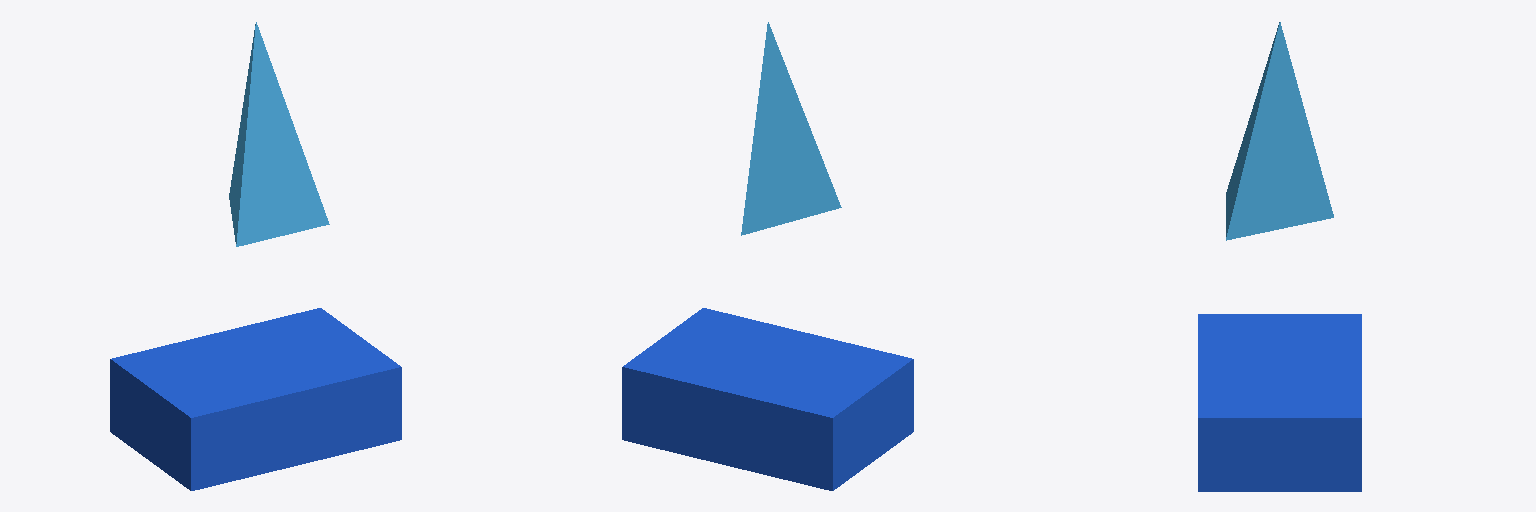
robot.urdf — urdftools_portable_demo:
<?xml version="1.0"?>
<robot name="urdftools_portable_demo">
  <link name="base_link">
    <inertial><origin xyz="0 0 0"/><mass value="1"/><inertia ixx="0.003" ixy="0" ixz="0" iyy="0.003" iyz="0" izz="0.003"/></inertial>
    <visual><geometry><box size="0.18 0.12 0.06"/></geometry><material name="blue"><color rgba="0.2 0.45 0.9 1"/></material></visual>
    <collision><geometry><box size="0.18 0.12 0.06"/></geometry></collision>
  </link>
  <link name="arm_link">
    <inertial><origin xyz="0 0 0.1"/><mass value="0.2"/><inertia ixx="0.0004" ixy="0" ixz="0" iyy="0.0004" iyz="0" izz="0.0002"/></inertial>
    <visual><origin xyz="0 0 0.1"/><geometry><mesh filename="meshes/tetra.obj" scale="1 1 1"/></geometry></visual>
    <collision><origin xyz="0 0 0.1"/><geometry><box size="0.08 0.08 0.2"/></geometry></collision>
  </link>
  <joint name="hinge" type="revolute">
    <parent link="base_link"/><child link="arm_link"/>
    <origin xyz="0 0 0.05" rpy="0 0 0"/>
    <axis xyz="0 1 0"/>
    <limit lower="-1.2" upper="1.2" effort="8" velocity="2"/>
  </joint>
</robot>

--- What the picture shows (computed from the rendered views, not written in the file) ---
The picture shows the robot from 3 angles, left to right: view 1: azimuth 30°, elevation 25°; view 2: azimuth 150°, elevation 25°; view 3: azimuth 270°, elevation 25°; orthographic projection.
Model urdftools_portable_demo with 2 links and 1 joints (1 revolute), rooted at base_link, posed all joints at 0.
Visible links, largest first — view 1: base_link, arm_link; view 2: base_link, arm_link; view 3: base_link, arm_link.
Link boxes in pixels (left/top/right/bottom): base_link: left=110, top=308, right=401, bottom=490; arm_link: left=229, top=22, right=329, bottom=246; base_link: left=622, top=308, right=913, bottom=490; arm_link: left=741, top=22, right=841, bottom=235; base_link: left=1198, top=314, right=1361, bottom=491; arm_link: left=1226, top=22, right=1333, bottom=240.
Bounding box of the posed robot: 0.18 × 0.12 × 0.34 m (x, y, z).
1 mesh visuals loaded from 1 distinct referenced files (1 OBJ).
